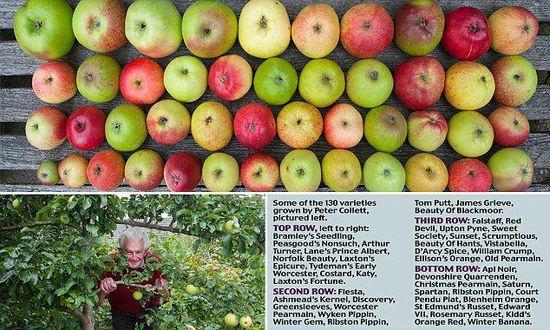apple: (13, 1, 74, 60), (123, 1, 183, 57), (181, 1, 238, 58), (237, 1, 291, 57), (71, 1, 129, 52), (393, 56, 445, 111), (340, 4, 393, 57), (392, 1, 445, 54), (290, 4, 341, 57), (441, 7, 492, 59), (444, 60, 495, 111), (488, 5, 538, 56), (488, 55, 538, 106), (298, 57, 346, 108), (346, 57, 393, 109), (207, 51, 253, 100), (31, 58, 78, 105), (119, 57, 166, 104), (448, 111, 495, 158), (162, 55, 208, 103), (76, 54, 121, 103), (254, 57, 298, 107), (192, 99, 234, 151), (276, 101, 322, 148), (146, 98, 191, 145), (104, 104, 148, 152), (364, 104, 408, 151), (488, 148, 534, 192), (24, 106, 69, 149), (323, 102, 364, 149), (279, 148, 322, 192), (487, 105, 531, 147), (362, 151, 406, 193), (234, 104, 277, 146), (123, 148, 165, 191), (66, 107, 108, 150), (404, 152, 449, 192), (405, 110, 447, 152), (321, 149, 362, 192), (447, 157, 492, 192), (240, 151, 279, 191), (87, 149, 124, 190), (201, 152, 239, 191), (164, 153, 200, 190), (57, 154, 89, 188), (36, 160, 60, 185)
